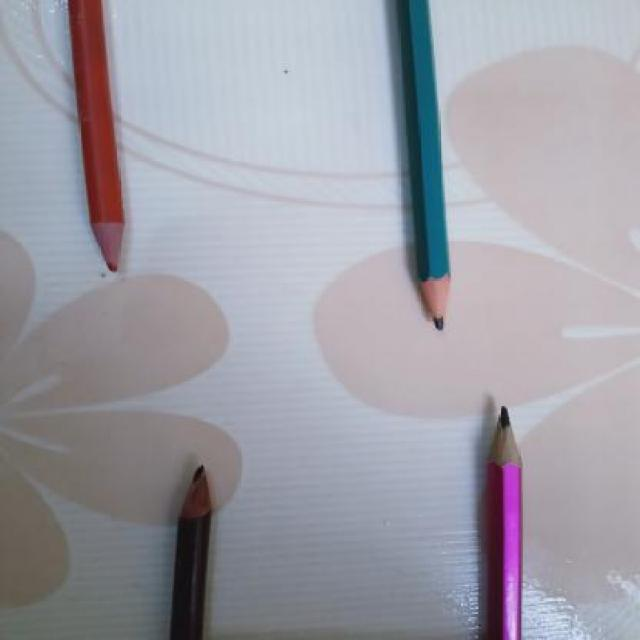pencil: (472, 401, 540, 485), (406, 264, 471, 342), (80, 210, 148, 281), (167, 458, 224, 536)
